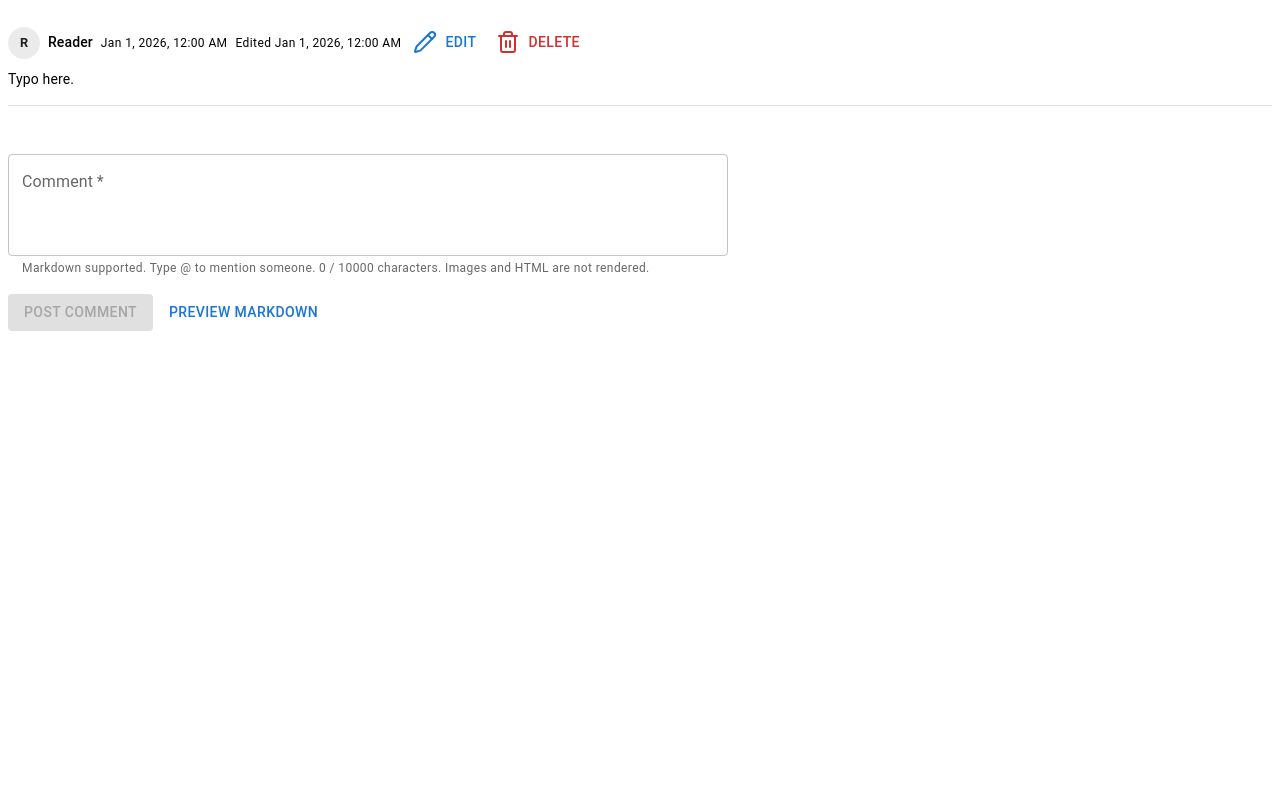
it: record comment order › deletes an own comment after confirmation
The width and height of the screenshot is (1280, 800).
What coordinates should you click on to do the following:
click the button "Delete"
I would click on:
 (540, 42)
Its box is [492,24,588,60].
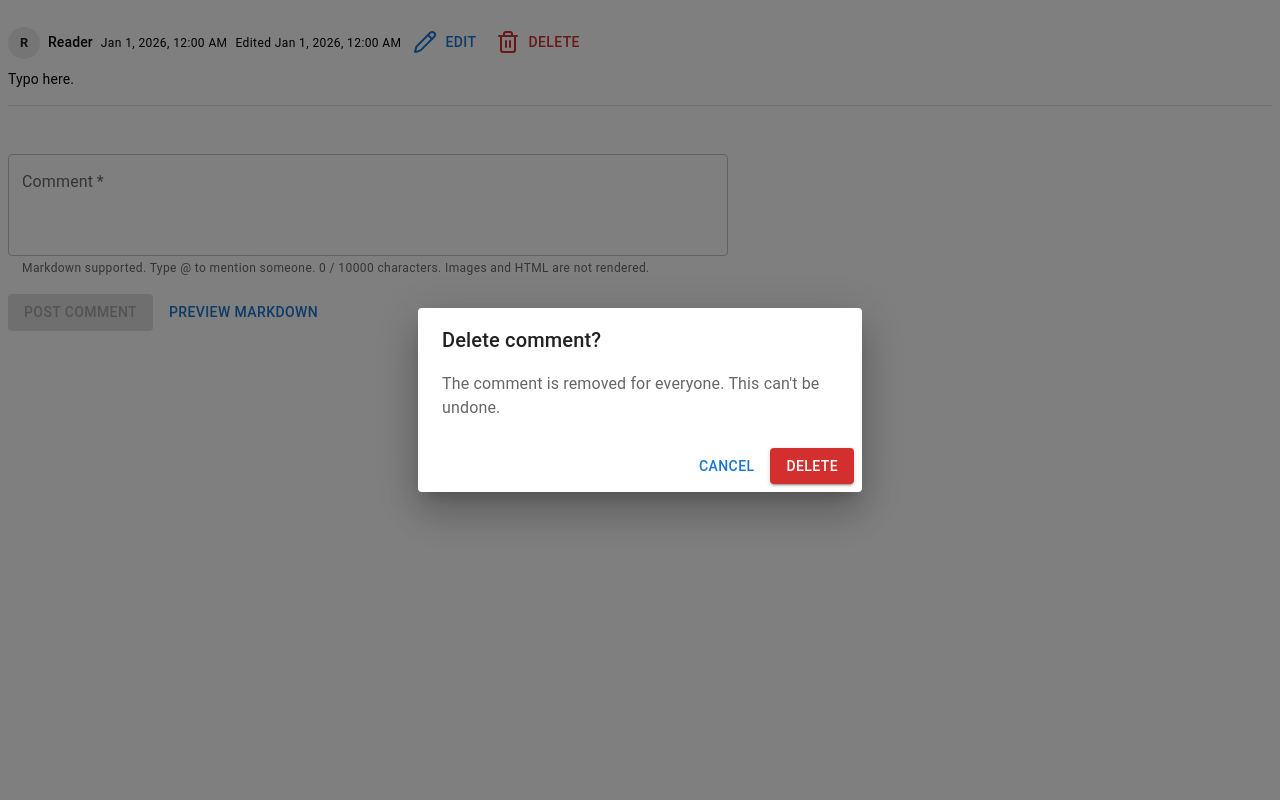
What coordinates should you click on to do the following:
click the button "Delete"
I would click on:
 (812, 466)
Its box is [770,448,854,484].
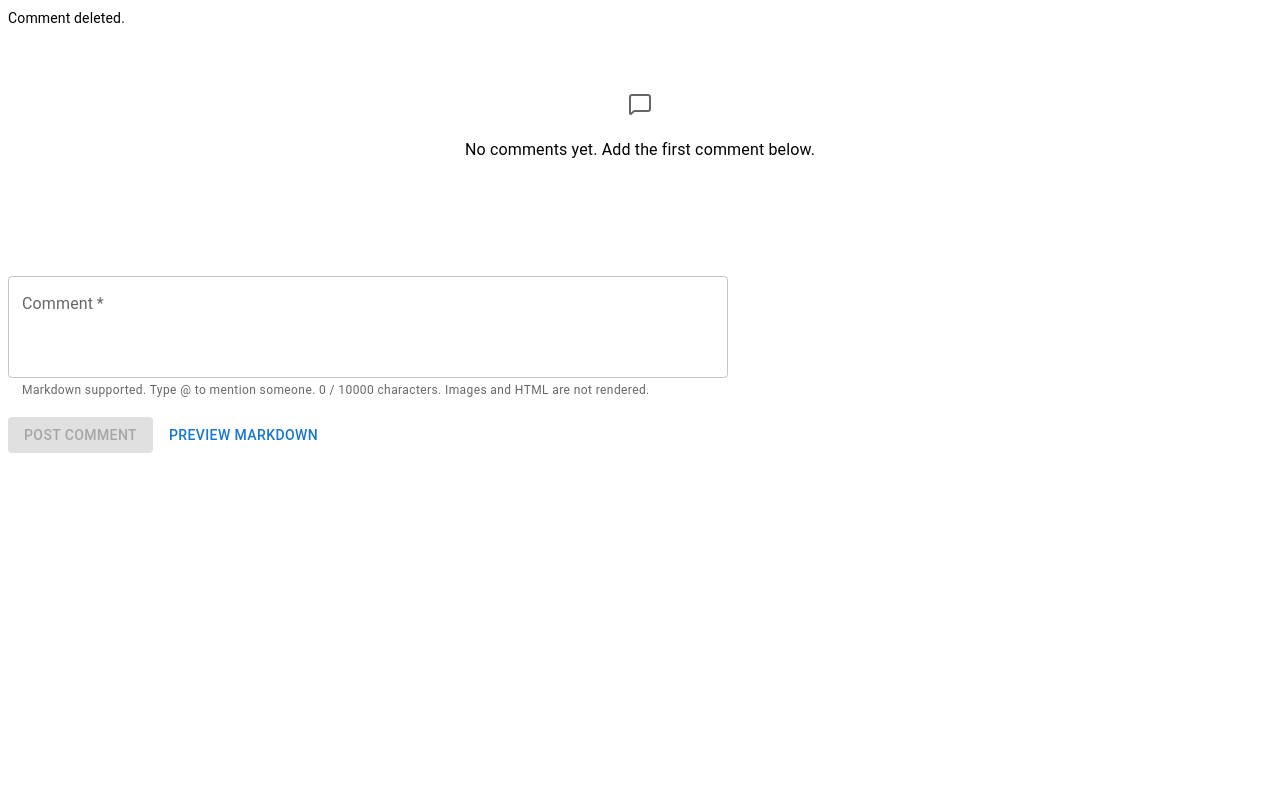
Now the text "Comment deleted." is shown, box [8,10,125,26]
Now the text "Typo here." is gone
